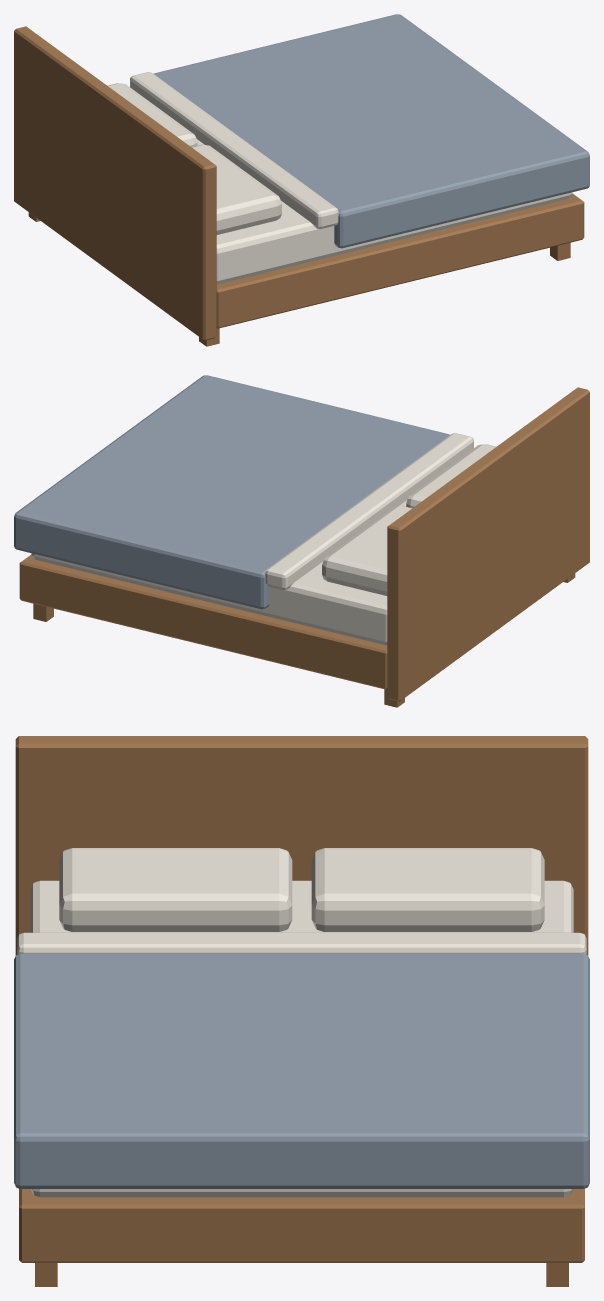
File: Cama.fbx
The picture shows the model from 3 angles, top to bottom: view 1: azimuth 30°, elevation 25°; view 2: azimuth 150°, elevation 25°; view 3: azimuth 270°, elevation 25°; orthographic projection. The views are drawn at different scales.
Visible parts, largest first — view 1: bed_Cama; view 2: bed_Cama; view 3: bed_Cama.
Boxes of the visible parts, x1=… form: bed_Cama: x1=14, y1=14, x2=589, y2=346; bed_Cama: x1=14, y1=375, x2=589, y2=707; bed_Cama: x1=14, y1=736, x2=589, y2=1286.
Size of the model in its own units: 2.08 by 0.95 by 1.78.
